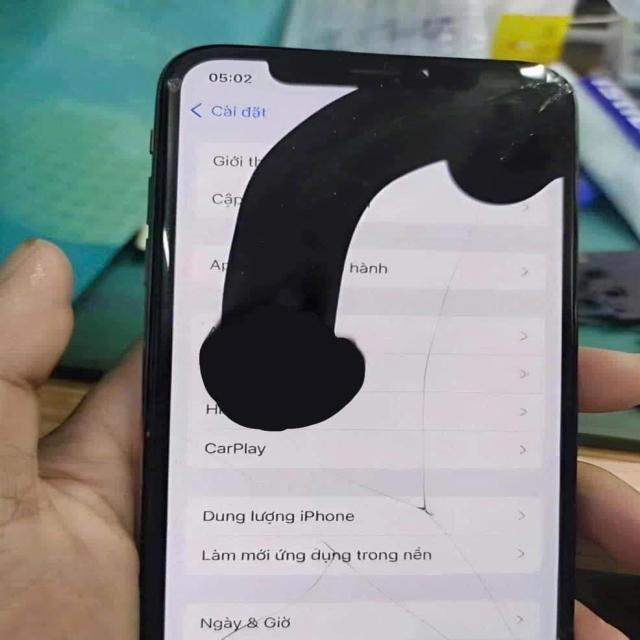physical_damage: (483, 62, 585, 144), (459, 143, 537, 224), (445, 572, 533, 640), (327, 461, 408, 517), (377, 586, 448, 640), (314, 535, 383, 589), (436, 228, 491, 284), (426, 524, 484, 576), (403, 462, 450, 523), (398, 405, 452, 457), (252, 578, 330, 614), (154, 66, 224, 105), (419, 283, 459, 350), (208, 611, 283, 640), (407, 356, 452, 404)
screen_defect: (412, 51, 571, 206), (298, 107, 379, 217), (341, 76, 412, 186), (294, 214, 391, 282), (241, 109, 301, 217), (222, 380, 314, 443), (242, 288, 299, 389), (289, 360, 375, 422), (289, 281, 355, 361), (227, 221, 287, 300), (192, 331, 230, 418), (212, 304, 260, 365)
